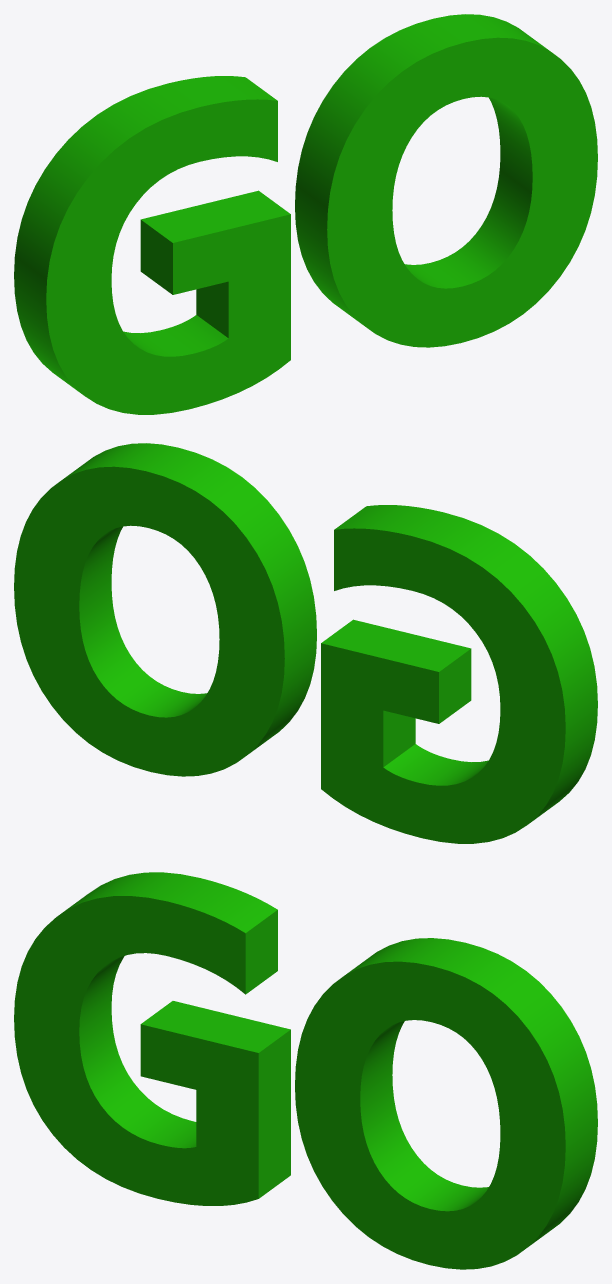
The picture shows the model from 3 angles, top to bottom: view 1: azimuth 30°, elevation 25°; view 2: azimuth 150°, elevation 25°; view 3: azimuth 330°, elevation 25°; orthographic projection.
Visible parts, largest first — view 1: go; view 2: go; view 3: go.
Part boxes in pixels (x1,y1,x2,y2): go: (14,14,597,414); go: (14,443,597,843); go: (14,872,597,1269).
Size of the model in its own units: 201 by 104 by 20.32.
